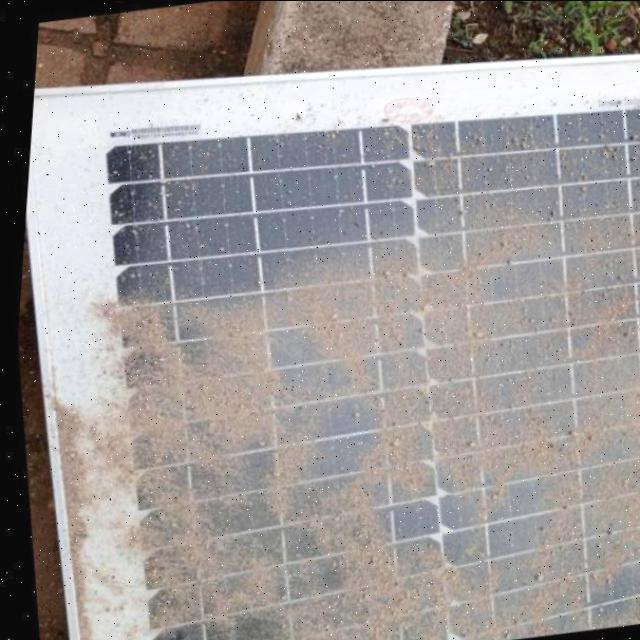Surface Contaminant: (59, 71, 640, 640)
